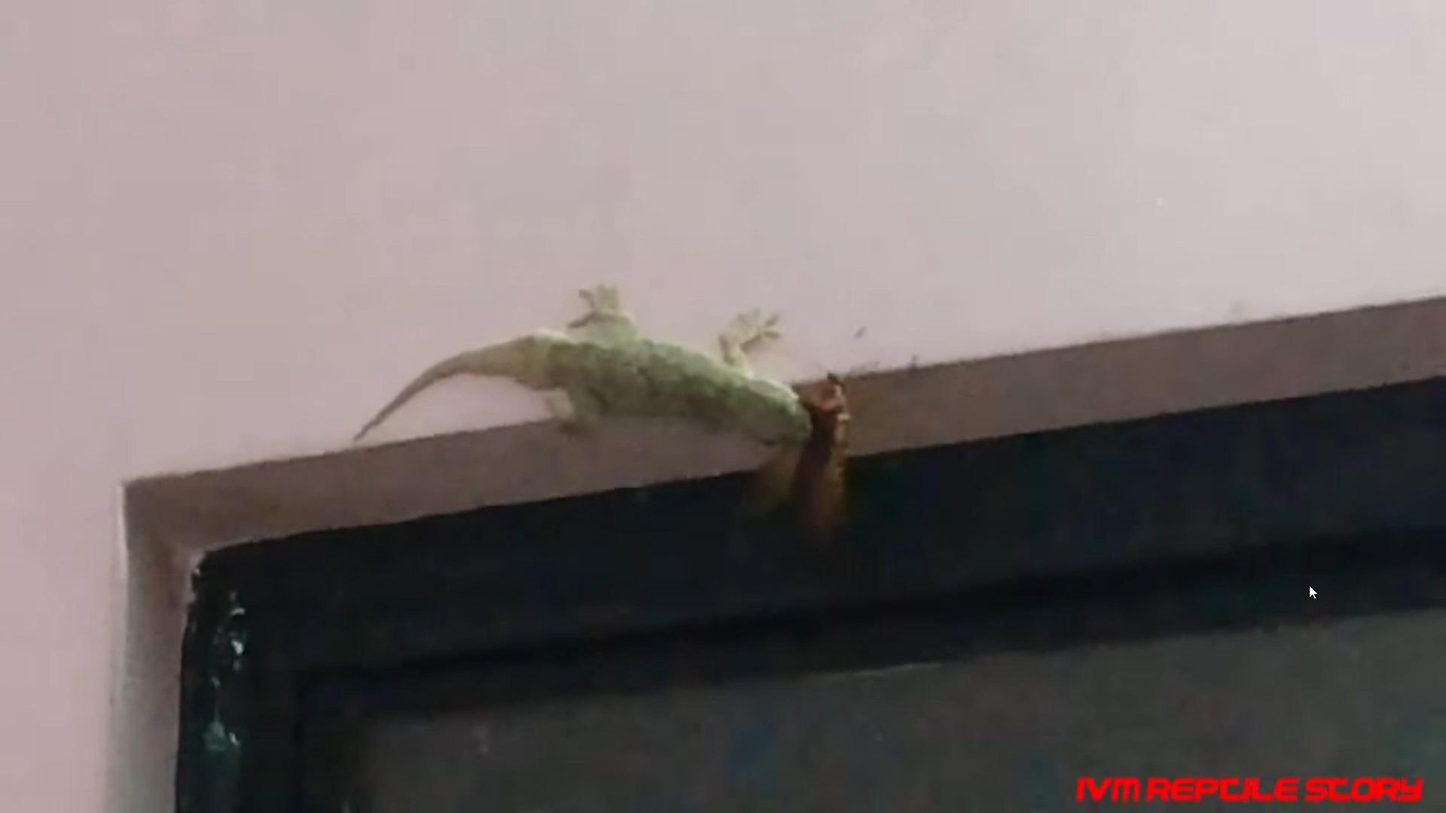cockroach: (787, 367, 864, 552)
lizard: (350, 267, 807, 460)
